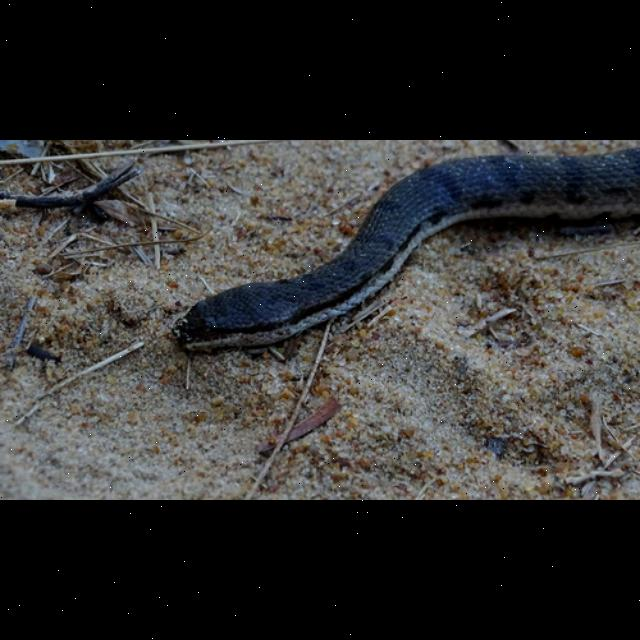snake: (168, 140, 640, 360)
